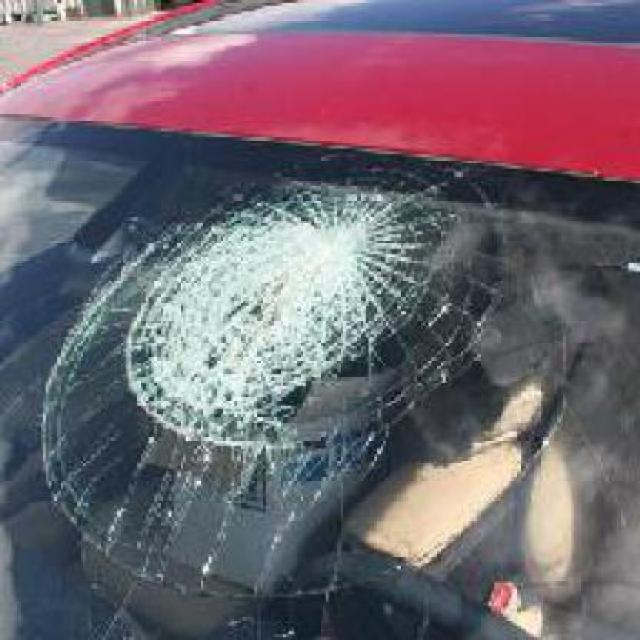damaged-windscreen: (5, 120, 638, 637)
